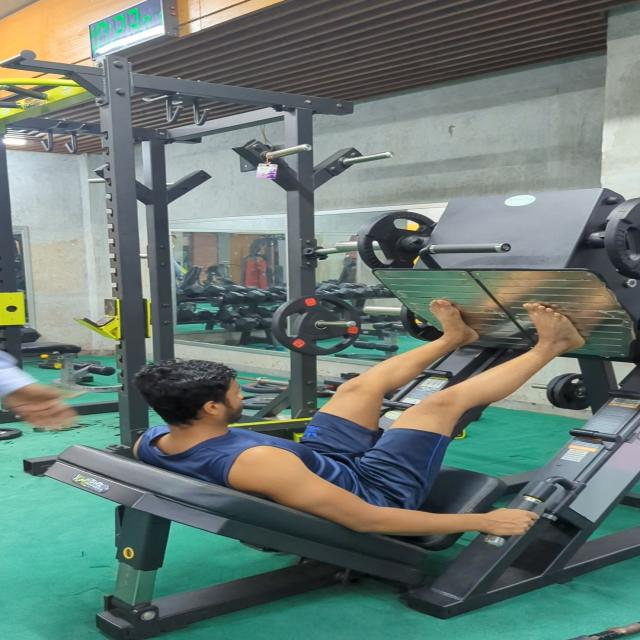Normal_LegPress: (128, 293, 592, 552)
